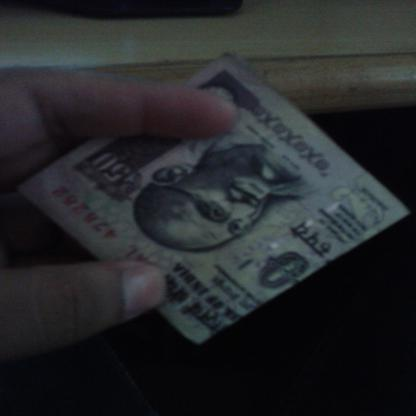Old50Front: (18, 51, 414, 346)
